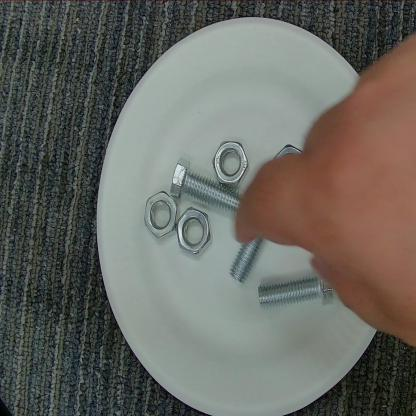FOD: (169, 158, 252, 212), (252, 272, 343, 310), (233, 220, 277, 283), (176, 205, 217, 258), (211, 141, 250, 187), (144, 191, 176, 242)
